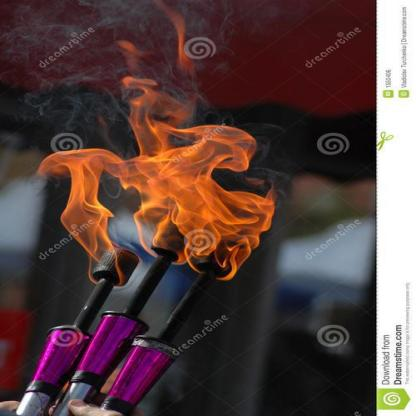fire: (30, 44, 277, 274)
